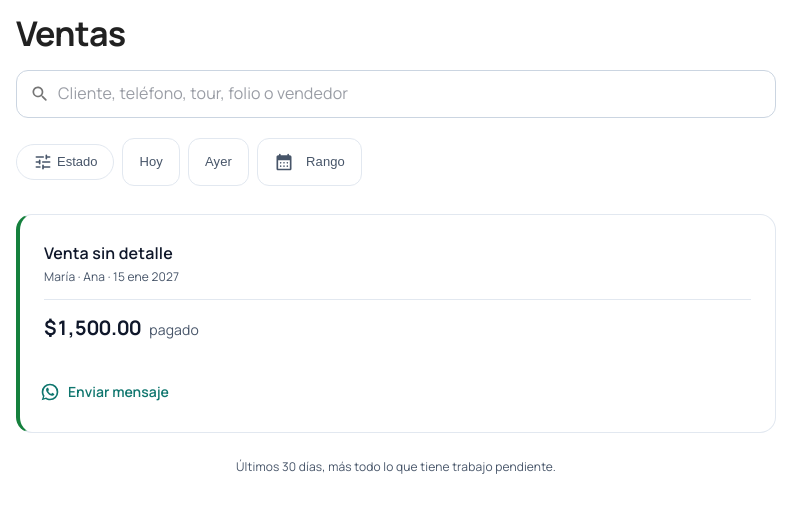
it: US-A83 — finding one sale › S-6 — when nothing matches locally, the server is asked and the screen SAYS so
Type "leo" into the field named "Buscar ventas" at point(417, 94), box 58,70 -> 776,118
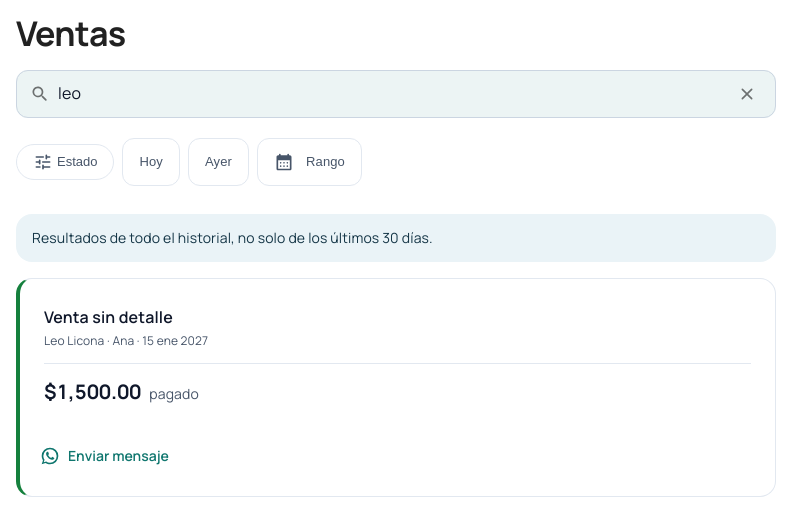
Now the text "Leo Licona · Ana · 15 ene 2027" is shown, box 44,332 -> 208,349
Now the text "Resultados de todo el historial" is shown, box 32,228 -> 382,247
